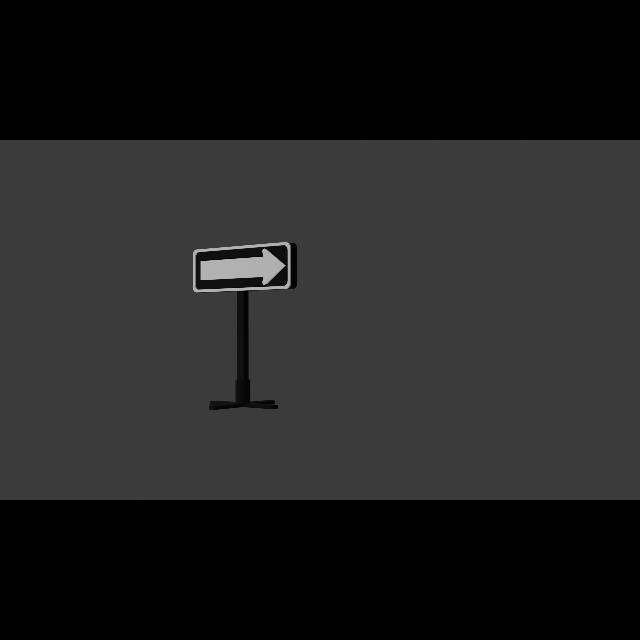sign_oneway_right: (194, 242, 297, 294)
